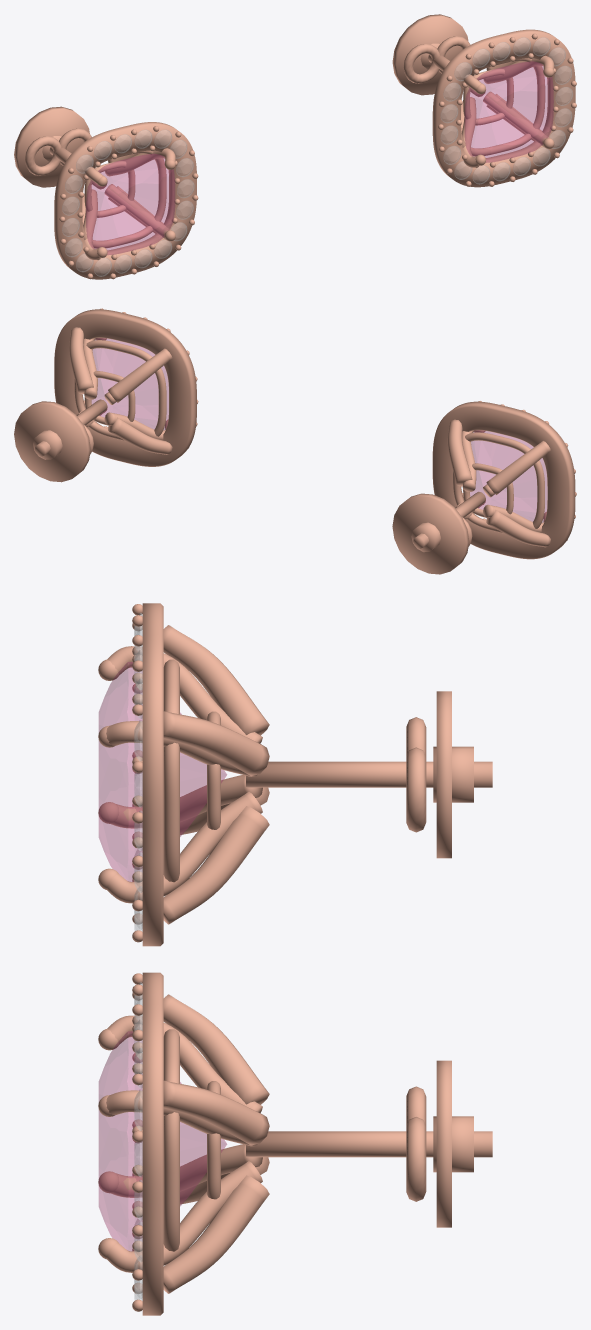
The model's file is Earring_Halo_Preview.glb.
3 views of the same model, one above another, from view 1: azimuth 30°, elevation 25°; view 2: azimuth 150°, elevation 25°; view 3: azimuth 270°, elevation 25° (orthographic). The views are drawn at different scales.
Visible parts, largest first — view 1: Halo_Frame, Halo_Frame.001, PreviewGem_Center, PreviewGem_Pair, Accent_Halo.001, Accent_Halo, Head_Center.001, Head_Center, Attach_Back.001, Attach_Back; view 2: Halo_Frame.001, Halo_Frame, Attach_Back, Attach_Back.001, Head_Center, Head_Center.001, PreviewGem_Center, PreviewGem_Pair, Attach_Post, Attach_Post.001; view 3: Halo_Frame.001, Halo_Frame, Head_Center.001, Head_Center, PreviewGem_Center, PreviewGem_Pair, Attach_Back, Attach_Back.001, Attach_Post, Attach_Post.001, Accent_Halo, Accent_Halo.001.
Boxes of the visible parts, x1,y1,x2,y2 form: Halo_Frame: (432, 29, 576, 187); Halo_Frame.001: (54, 122, 198, 279); PreviewGem_Center: (465, 61, 553, 162); PreviewGem_Pair: (86, 154, 174, 254); Accent_Halo.001: (62, 130, 194, 276); Accent_Halo: (441, 37, 572, 184); Head_Center.001: (82, 148, 175, 259); Head_Center: (460, 55, 554, 167); Attach_Back.001: (14, 106, 91, 187); Attach_Back: (392, 14, 470, 95); Halo_Frame.001: (432, 401, 576, 559); Halo_Frame: (54, 308, 198, 466); Attach_Back: (14, 401, 93, 482); Attach_Back.001: (392, 493, 472, 574); Head_Center: (74, 338, 168, 440); Head_Center.001: (453, 430, 546, 533); PreviewGem_Center: (92, 338, 168, 429); PreviewGem_Pair: (470, 430, 547, 522); Attach_Post: (34, 399, 107, 456); Attach_Post.001: (413, 491, 485, 548); Halo_Frame.001: (132, 603, 269, 946); Halo_Frame: (132, 972, 269, 1315); Head_Center.001: (98, 646, 262, 903); Head_Center: (98, 1015, 262, 1272); PreviewGem_Center: (99, 1031, 226, 1251); PreviewGem_Pair: (99, 662, 226, 881); Attach_Back: (406, 1060, 473, 1227); Attach_Back.001: (406, 691, 473, 858); Attach_Post: (246, 1131, 492, 1157); Attach_Post.001: (246, 761, 492, 787); Accent_Halo: (134, 982, 142, 1300); Accent_Halo.001: (134, 613, 142, 931).
Bounding box in the file's own units: 0.0382 × 0.0102 × 0.0126.
